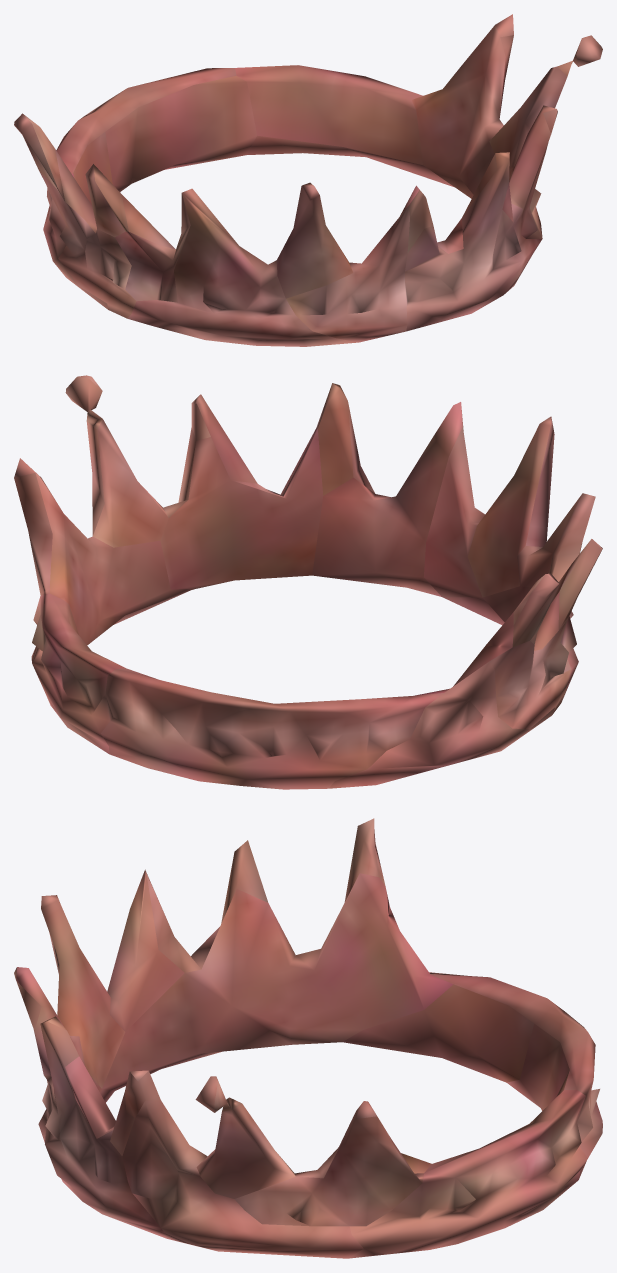
The picture shows the model from 3 angles, top to bottom: view 1: azimuth 30°, elevation 25°; view 2: azimuth 150°, elevation 25°; view 3: azimuth 270°, elevation 25°; orthographic projection. The views are drawn at different scales.
Parts seen in each view (by area): view 1: Pink-Crown-26; view 2: Pink-Crown-26; view 3: Pink-Crown-26.
Boxes of the visible parts, x1,y1,x2,y2 form: Pink-Crown-26: (14,14,602,346); Pink-Crown-26: (14,375,602,789); Pink-Crown-26: (14,818,602,1258).
Bounding box in the file's own units: 0.2781 × 0.0938 × 0.2446.
1 material, 1 textured.
